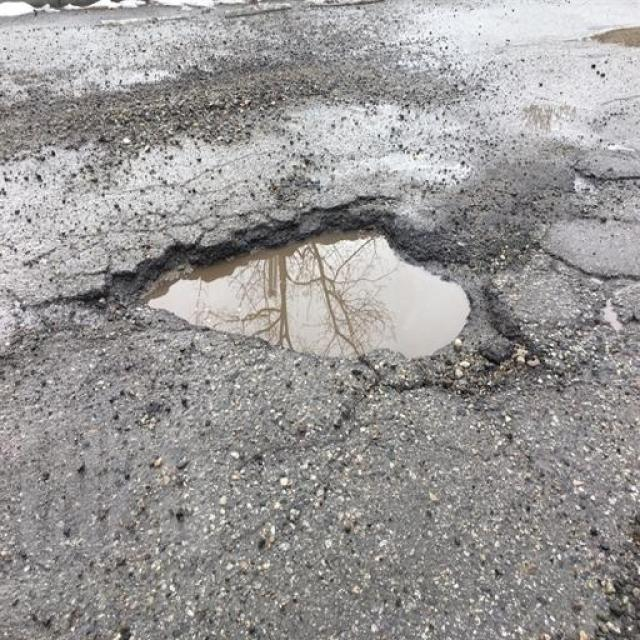puddle: (162, 235, 483, 371)
